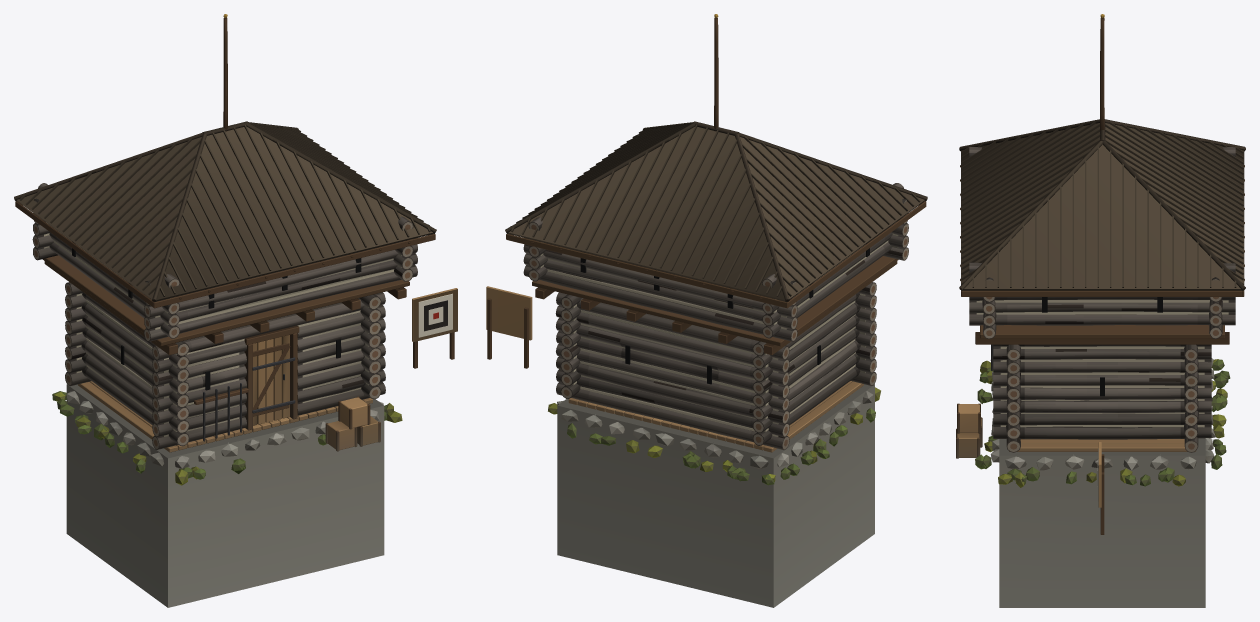
File: silahlik.glb
The picture shows the model from 3 angles, left to right: view 1: azimuth 30°, elevation 25°; view 2: azimuth 150°, elevation 25°; view 3: azimuth 270°, elevation 25°; orthographic projection.
Parts seen in each view (by area): view 1: stone-plinth-001, shingle-roof-001, shingle-roof-003, dark-002, plank-fascia-003, log-044, shingle-ridge-005, plank-door-002, log-048, log-040, plank-target-007, log-036 (+31 smaller); view 2: stone-plinth-001, shingle-roof-002, shingle-roof-003, dark-002, stone-found-003, plank-fascia-003, log-045, shingle-ridge-005, log-041, log-013, log-008, log-028 (+19 smaller); view 3: stone-plinth-001, shingle-roof-004, shingle-roof-002, shingle-roof-001, dark-002, shingle-ridge-005, log-047, log-043, stone-found-005, log-015, log-010, log-030 (+14 smaller).
Part boxes in pixels (x1=…): stone-plinth-001: x1=66, y1=384, x2=384, y2=607; shingle-roof-001: x1=156, y1=125, x2=433, y2=301; shingle-roof-003: x1=17, y1=137, x2=201, y2=299; dark-002: x1=42, y1=255, x2=409, y2=354; plank-fascia-003: x1=15, y1=201, x2=435, y2=308; log-044: x1=144, y1=253, x2=417, y2=329; shingle-ridge-005: x1=14, y1=121, x2=436, y2=301; plank-door-002: x1=253, y1=335, x2=290, y2=425; log-048: x1=144, y1=244, x2=417, y2=317; log-040: x1=144, y1=264, x2=417, y2=341; plank-target-007: x1=412, y1=288, x2=457, y2=368; log-036: x1=152, y1=292, x2=385, y2=360; stone-plinth-001: x1=557, y1=384, x2=874, y2=607; shingle-roof-002: x1=508, y1=124, x2=785, y2=301; shingle-roof-003: x1=740, y1=136, x2=924, y2=302; dark-002: x1=532, y1=256, x2=898, y2=355; stone-found-003: x1=561, y1=410, x2=775, y2=485; plank-fascia-003: x1=506, y1=201, x2=926, y2=308; log-045: x1=523, y1=253, x2=797, y2=329; shingle-ridge-005: x1=505, y1=121, x2=927, y2=301; log-041: x1=523, y1=264, x2=797, y2=341; log-013: x1=556, y1=356, x2=789, y2=424; log-008: x1=556, y1=369, x2=789, y2=437; log-028: x1=556, y1=317, x2=789, y2=385; stone-plinth-001: x1=999, y1=438, x2=1205, y2=607; shingle-roof-004: x1=963, y1=144, x2=1241, y2=290; shingle-roof-002: x1=1105, y1=121, x2=1244, y2=290; shingle-roof-001: x1=961, y1=121, x2=1100, y2=290; dark-002: x1=975, y1=325, x2=1229, y2=344; shingle-ridge-005: x1=959, y1=119, x2=1245, y2=290; log-047: x1=969, y1=300, x2=1235, y2=314; log-043: x1=969, y1=312, x2=1235, y2=325; stone-found-005: x1=998, y1=454, x2=1196, y2=487; log-015: x1=993, y1=399, x2=1211, y2=413; log-010: x1=993, y1=412, x2=1211, y2=427; log-030: x1=993, y1=359, x2=1211, y2=374.
Bounding box in the file's own units: 9.14 × 12.42 × 6.04.
